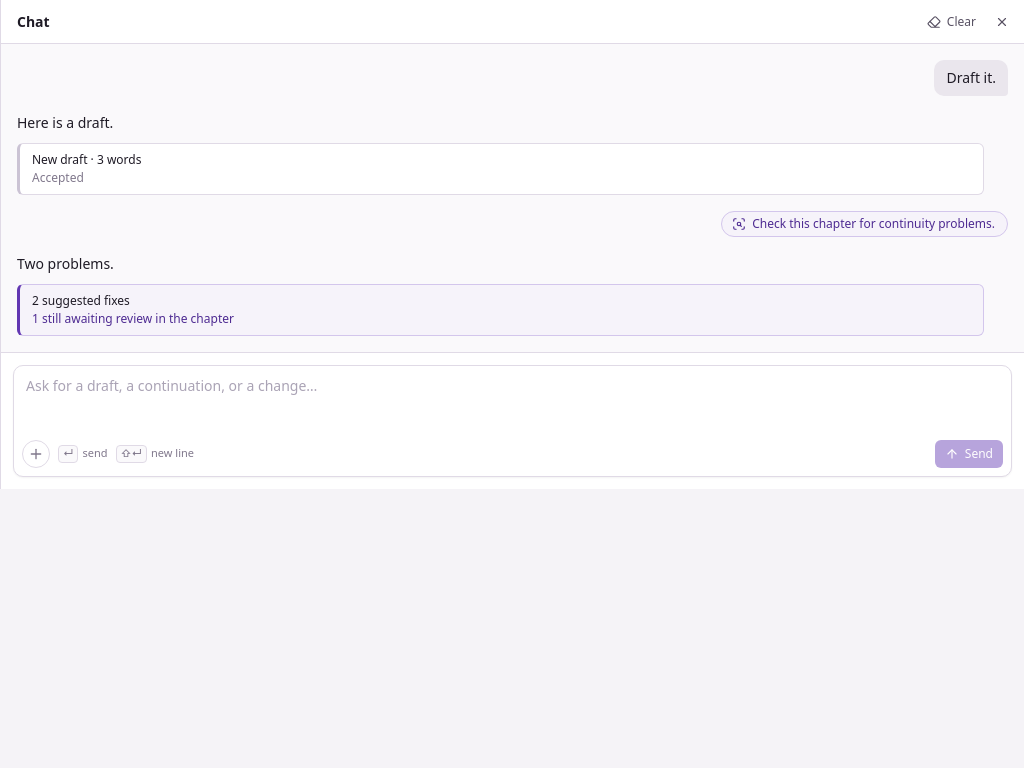
Test case: ChatPane › clears the conversation once confirmed
This screenshot has width=1024, height=768.
Click the button "Clear" at (951, 22), box 917,8 -> 986,36
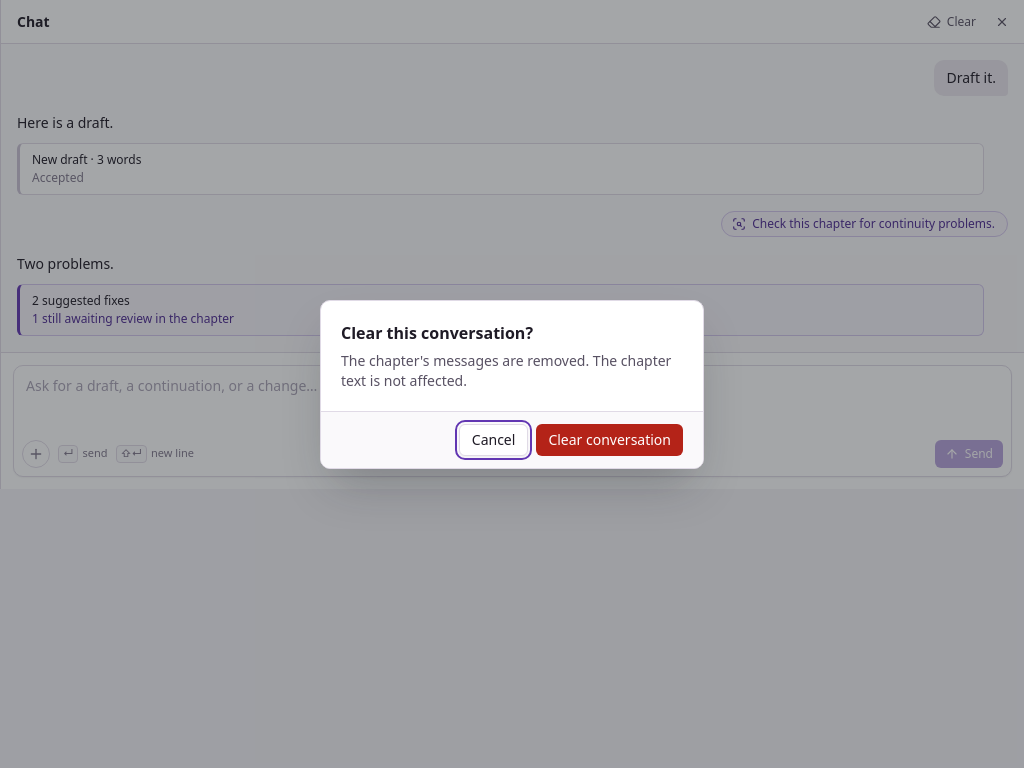
Click the button "Cancel" at (494, 440), box 459,424 -> 528,456
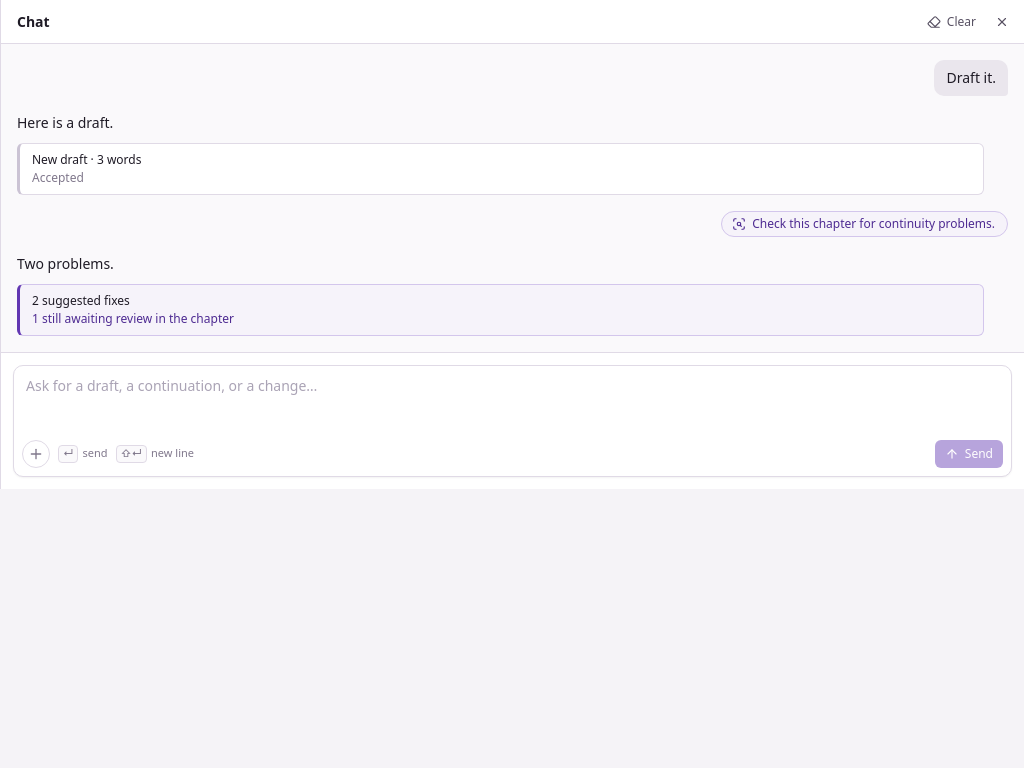
Click the button "Clear" at (951, 22), box 917,8 -> 986,36
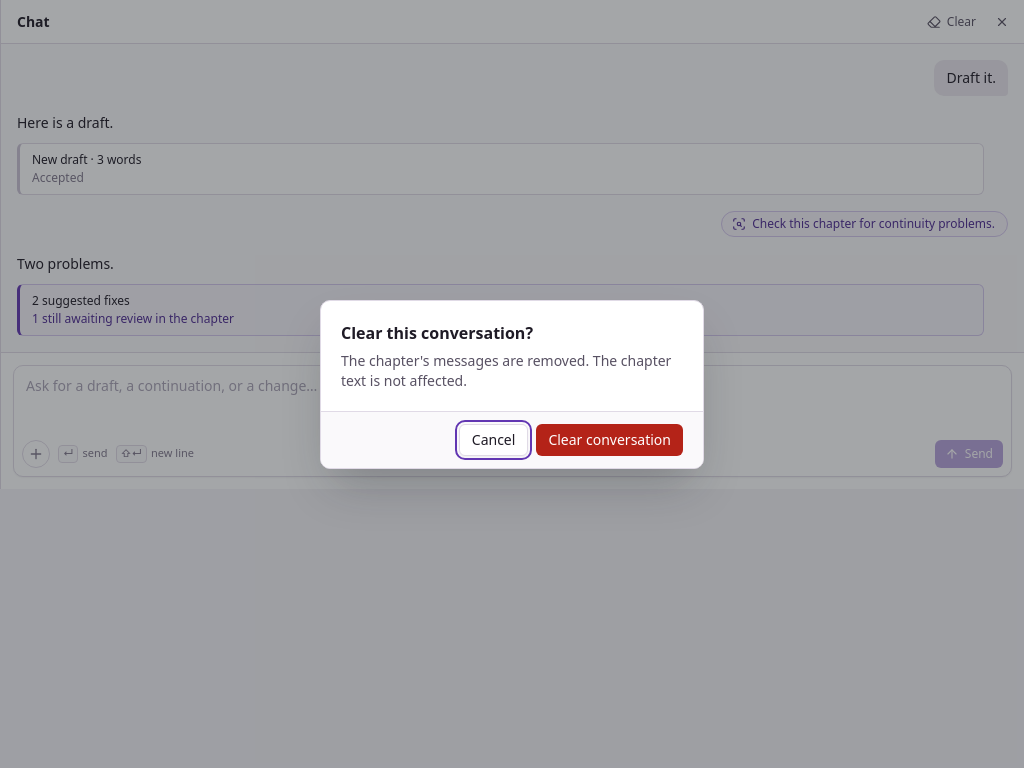
Now the dialog "Clear this conversation" is shown, box 320,300 -> 704,468
Click the button "Clear conversation" at (610, 440), box 536,424 -> 683,456
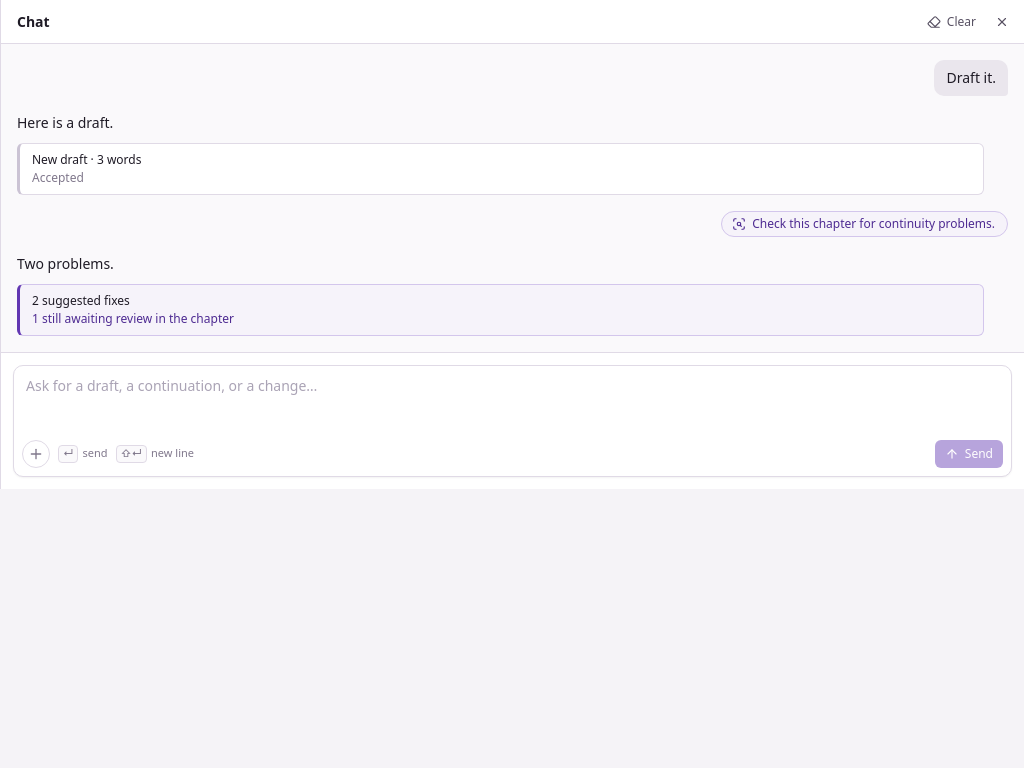
Now the dialog is gone
